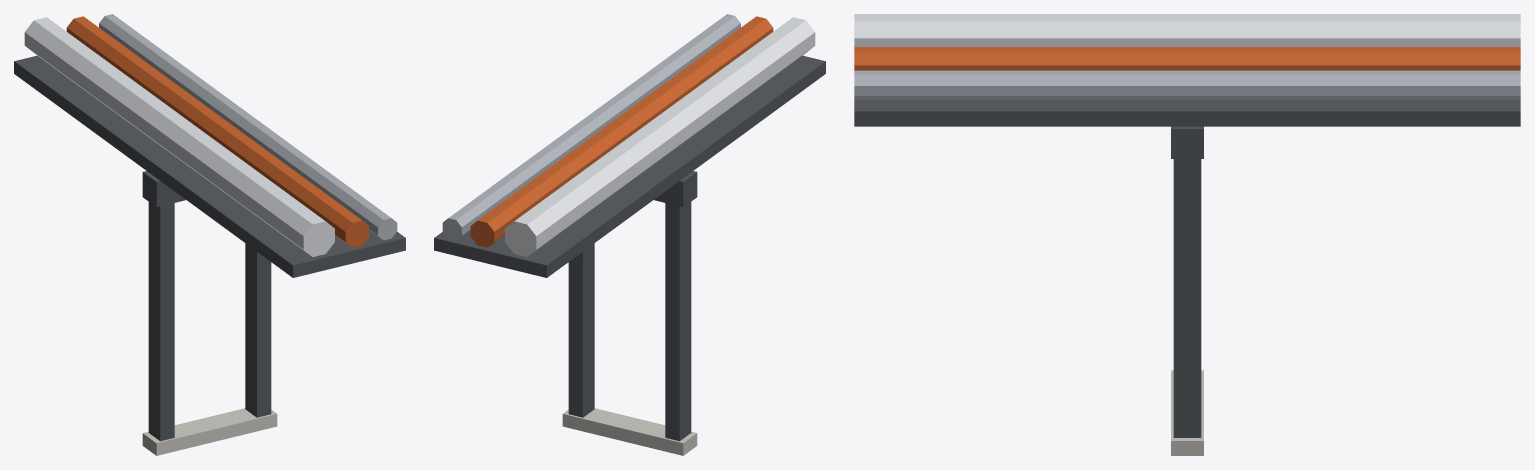
The model's file is link_pipe.glb.
3 views of the same model, side by side, from view 1: azimuth 30°, elevation 25°; view 2: azimuth 150°, elevation 25°; view 3: azimuth 270°, elevation 25° (orthographic). The views are drawn at different scales.
Visible parts, largest first — view 1: link_pipe; view 2: link_pipe; view 3: link_pipe.
Boxes of the visible parts, left/top/right/bottom form: link_pipe: left=14, top=14, right=405, bottom=455; link_pipe: left=434, top=14, right=825, bottom=455; link_pipe: left=854, top=14, right=1520, bottom=455.
Size of the model in its own units: 3 by 7.66 by 12.
